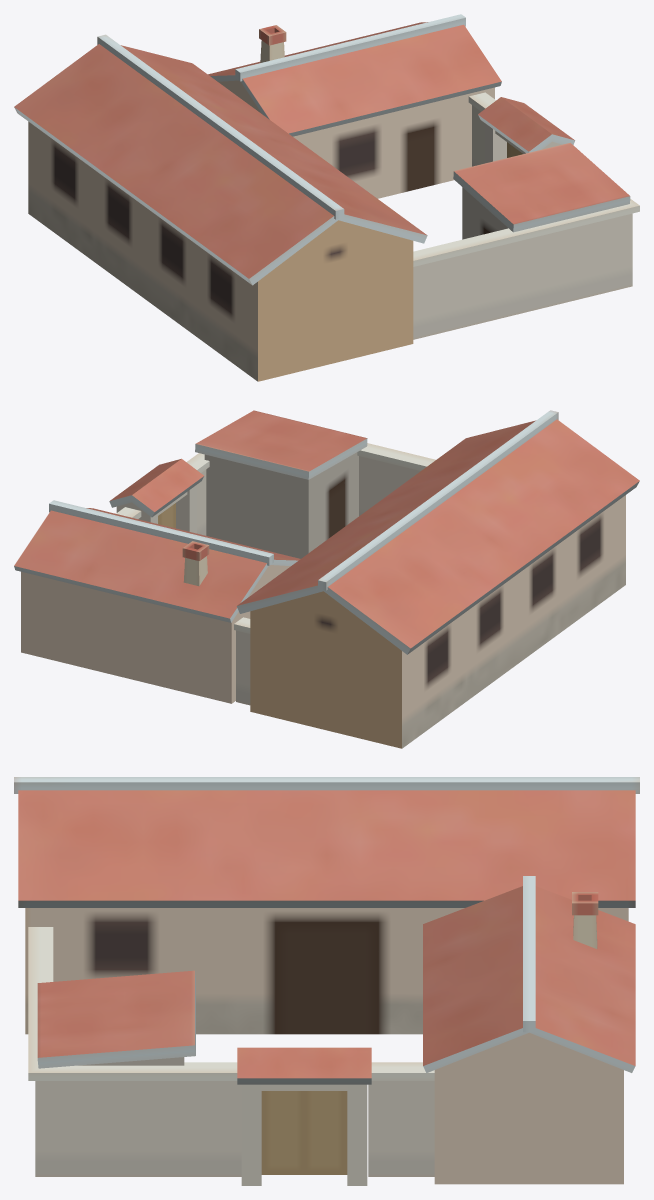
File: Plain_Building_Residential_L1_01_Mod.fbx
The picture shows the model from 3 angles, top to bottom: view 1: azimuth 30°, elevation 25°; view 2: azimuth 150°, elevation 25°; view 3: azimuth 270°, elevation 25°; orthographic projection. The views are drawn at different scales.
Parts seen in each view (by area): view 1: Plain_Building_Residential_L1_01_Mod; view 2: Plain_Building_Residential_L1_01_Mod; view 3: Plain_Building_Residential_L1_01_Mod.
Boxes of the visible parts, left/top/right/bottom form: Plain_Building_Residential_L1_01_Mod: left=14, top=14, right=639, bottom=381; Plain_Building_Residential_L1_01_Mod: left=14, top=410, right=639, bottom=748; Plain_Building_Residential_L1_01_Mod: left=14, top=777, right=639, bottom=1185.
Bounding box in the file's own units: 1179 × 429 × 1188.
